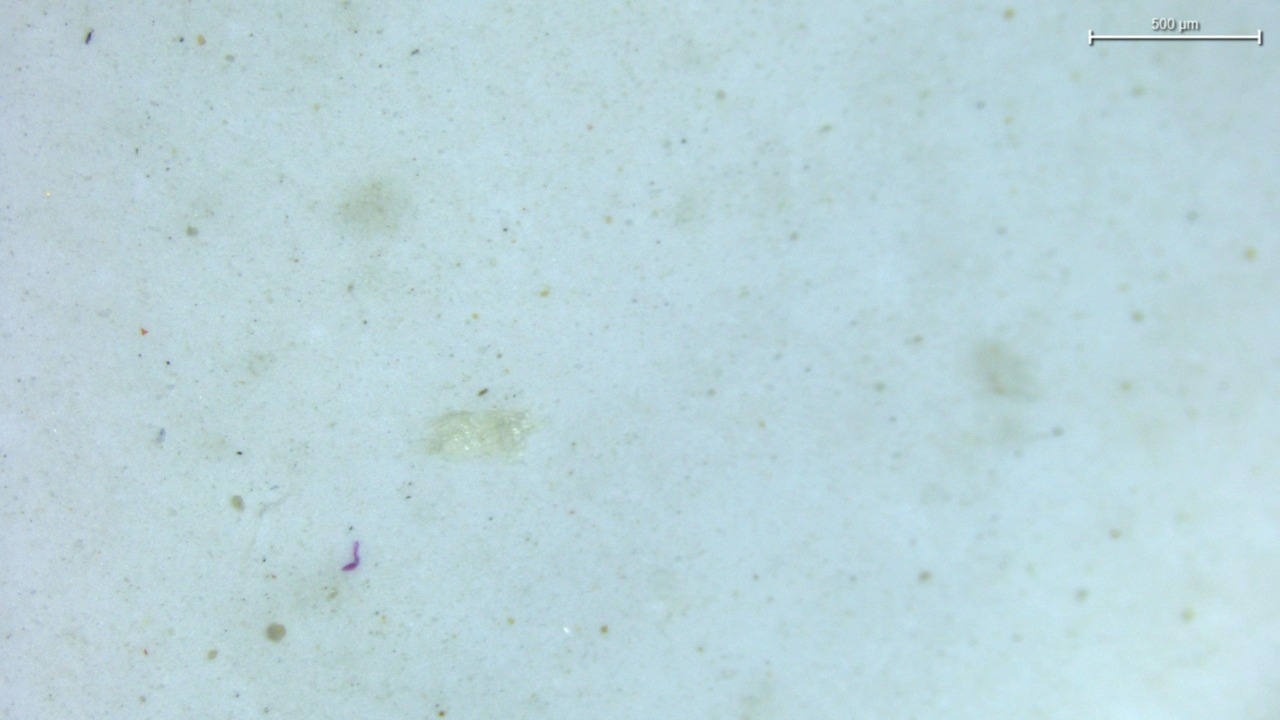microplastic_fragment: (427, 409, 534, 460)
